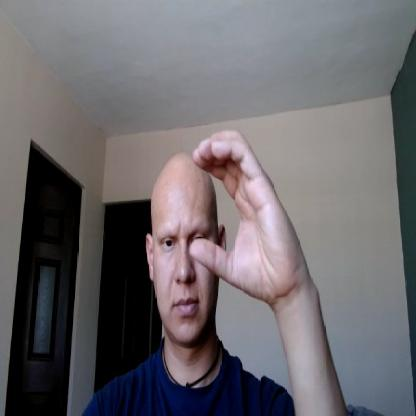C: (189, 126, 300, 304)
